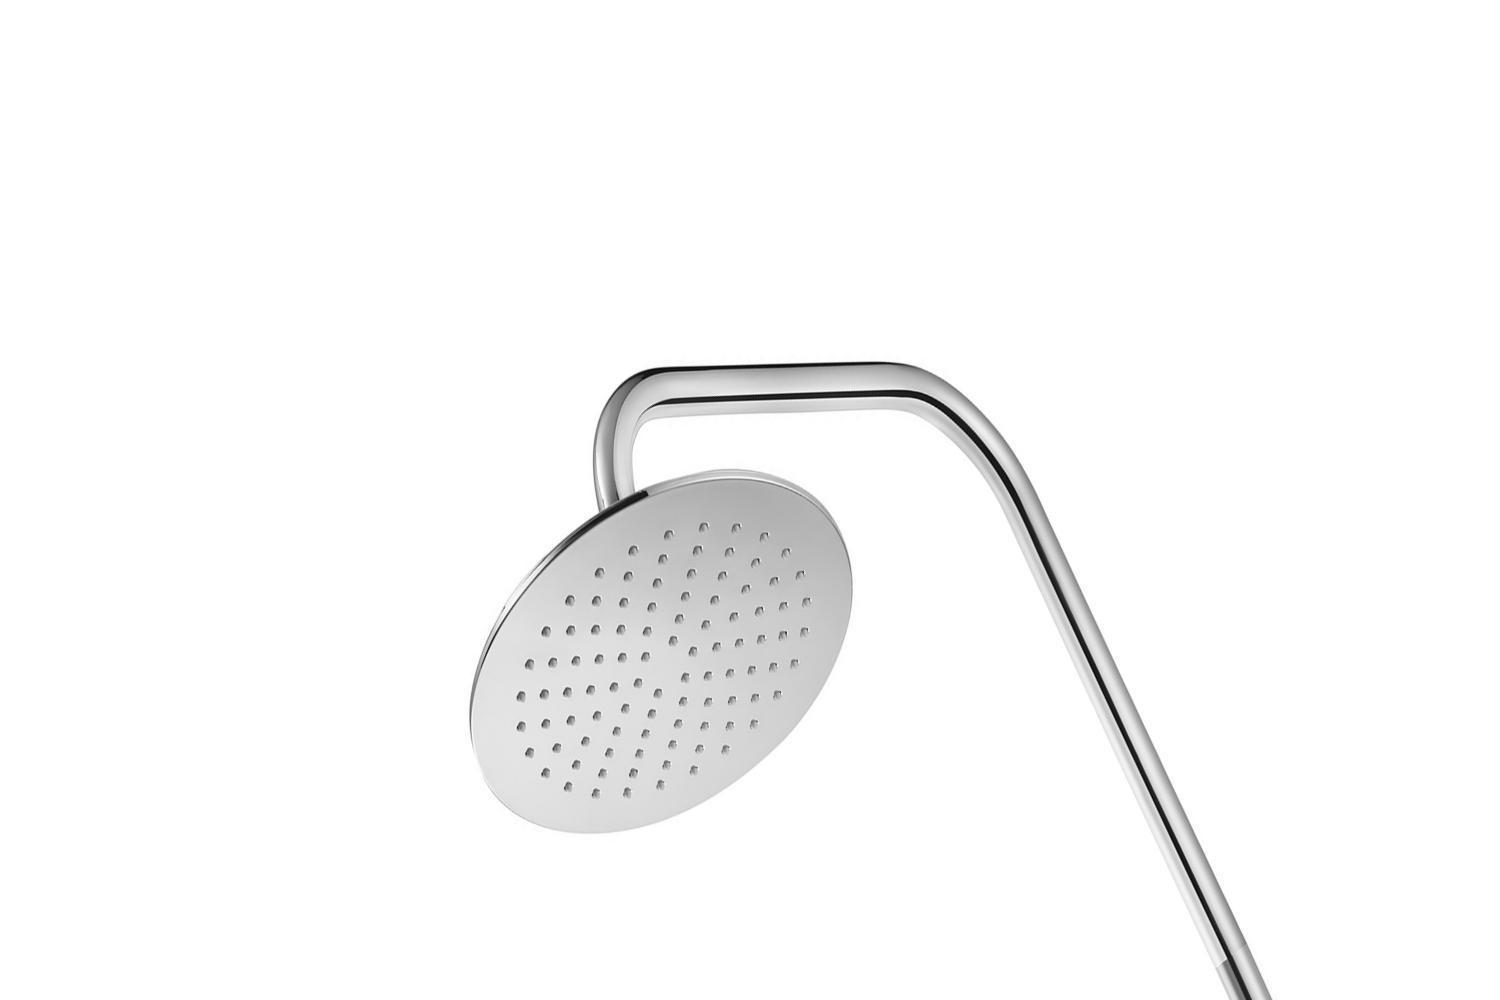Ducha: (477, 306, 1305, 999)
